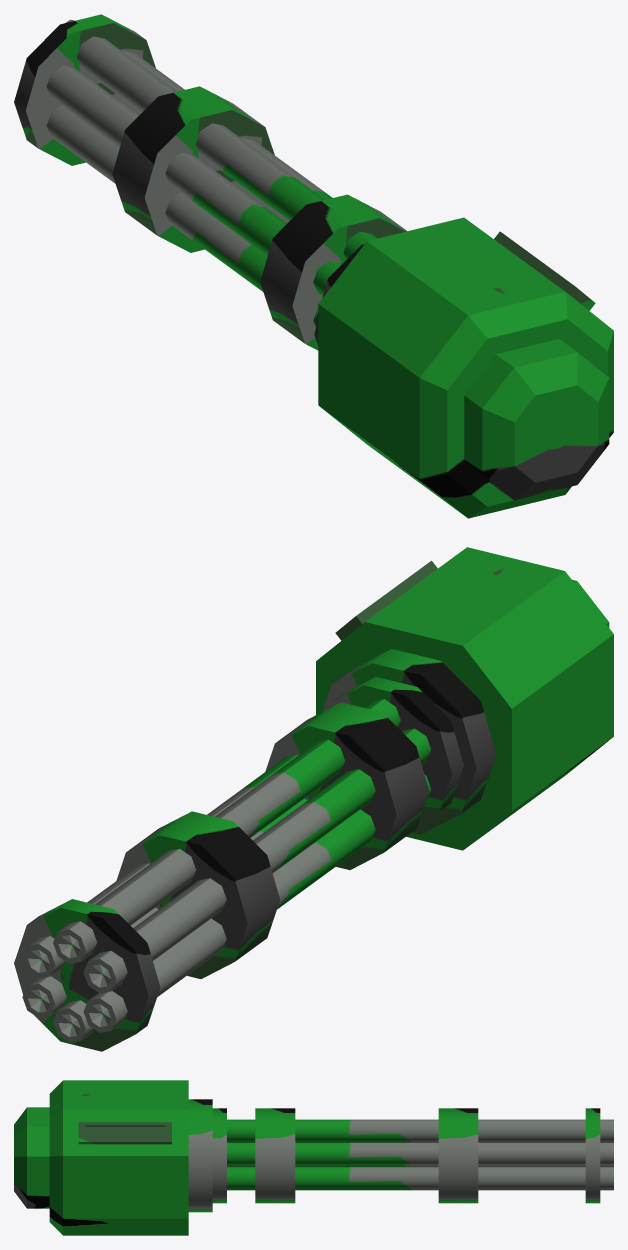
Rendered from Gatling Gun.0001.fbx.
3 views of the same model, one above another, from view 1: azimuth 30°, elevation 25°; view 2: azimuth 150°, elevation 25°; view 3: azimuth 270°, elevation 25° (orthographic). The views are drawn at different scales.
Parts seen in each view (by area): view 1: Body, Barrel; view 2: Barrel, Body; view 3: Barrel, Body.
Boxes of the visible parts, bbox=[...] form: Body: bbox=[314, 217, 613, 518]; Barrel: bbox=[14, 14, 407, 350]; Barrel: bbox=[14, 677, 463, 1051]; Body: bbox=[316, 547, 613, 850]; Barrel: bbox=[212, 1108, 613, 1203]; Body: bbox=[14, 1080, 212, 1235].
Bounding box in the file's own units: 1.08 × 1.08 × 4.67.
